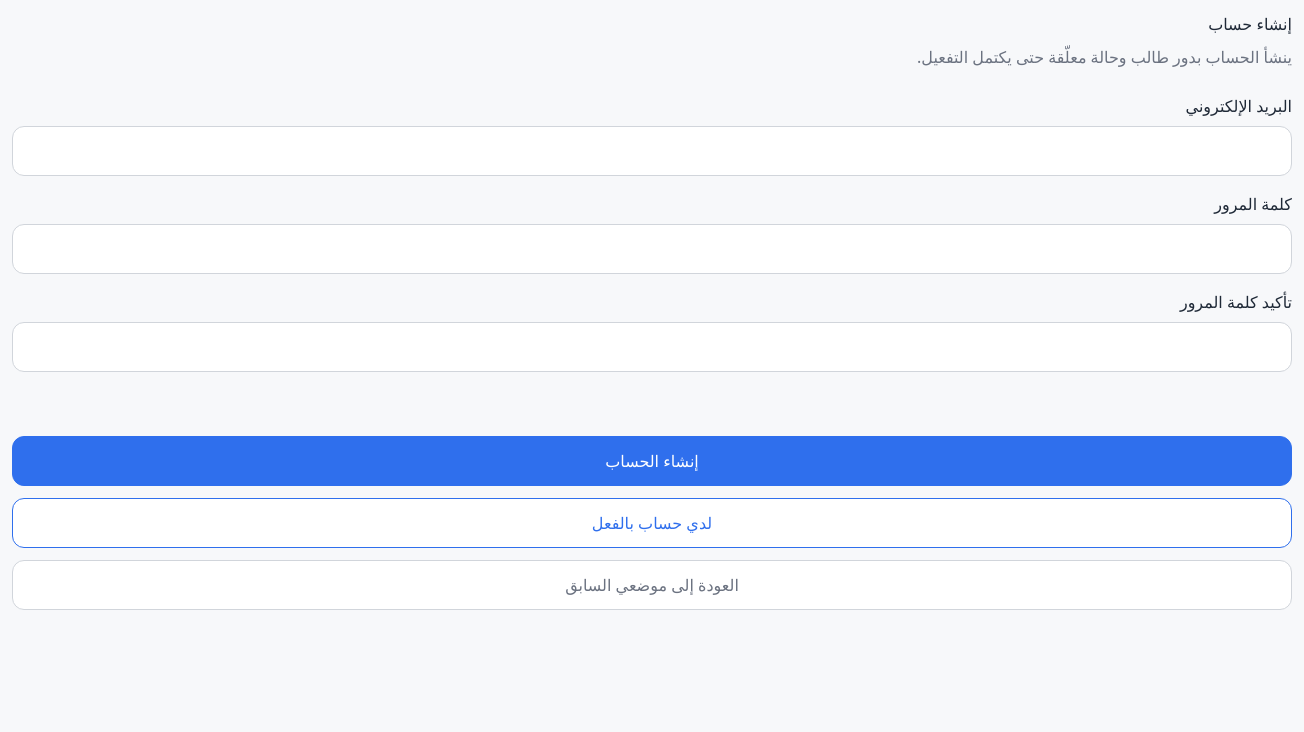
Test: SignUpForm › يعرض PublicAuthError فقط عند فشل التسجيل
Type "new@example.com" into the field labelled "البريد الإلكتروني" at (652, 151), box [12, 126, 1292, 176]
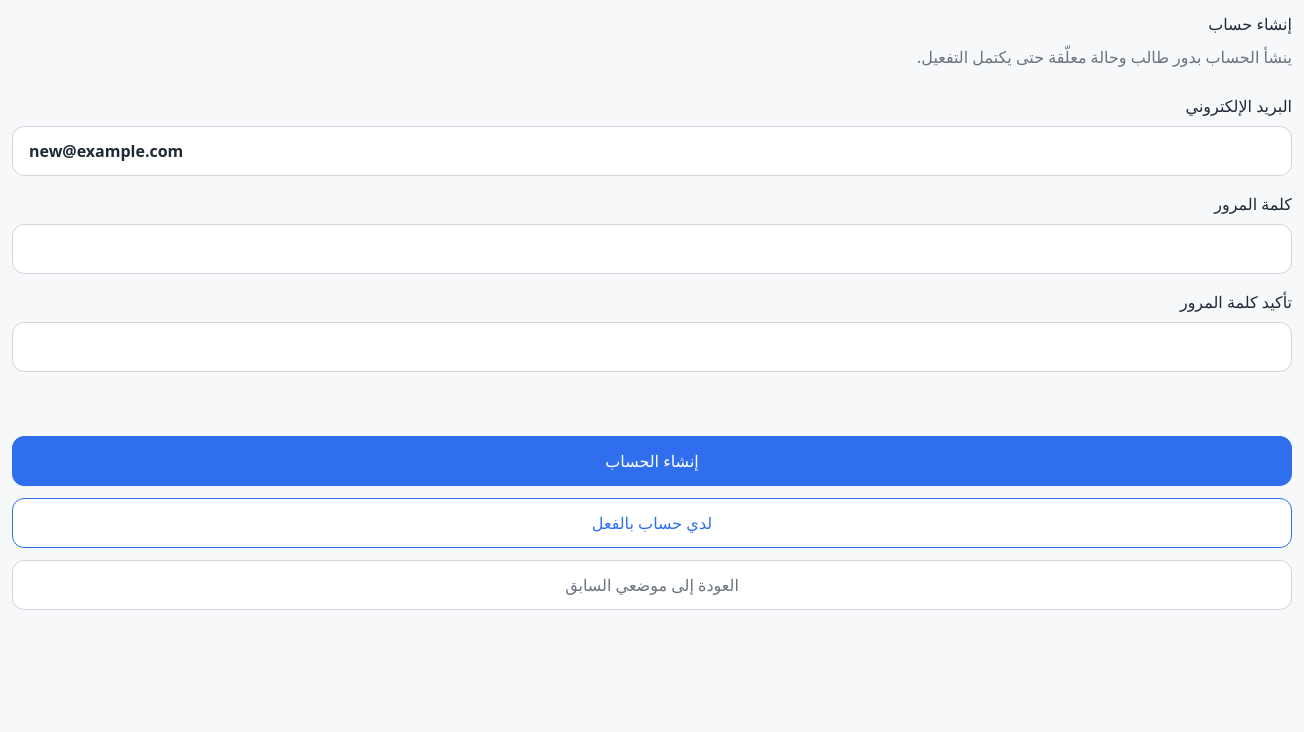
Type "strong-password" into the password field labelled "كلمة المرور" at (652, 249), box [12, 224, 1292, 274]
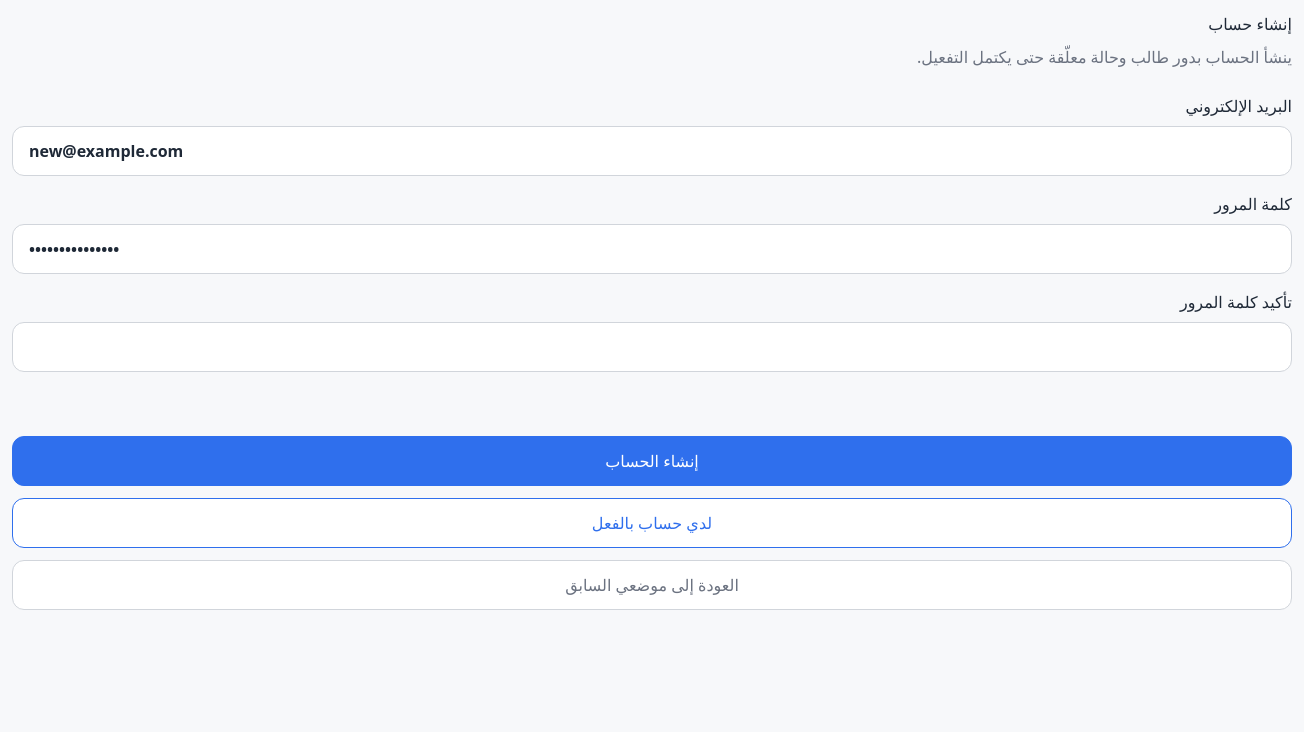
Type "strong-password" into the password field labelled "تأكيد كلمة المرور" at (652, 347), box [12, 322, 1292, 372]
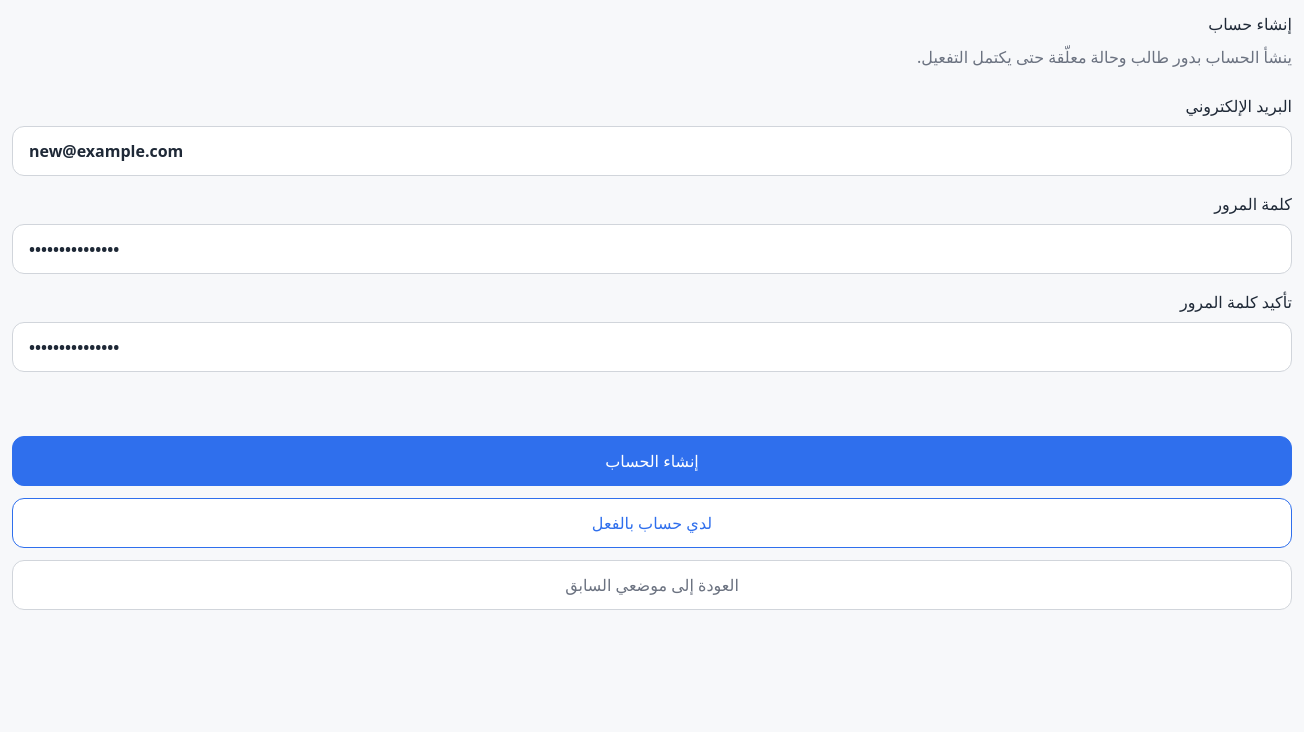
Click the button "إنشاء الحساب" at (652, 461), box [12, 436, 1292, 486]
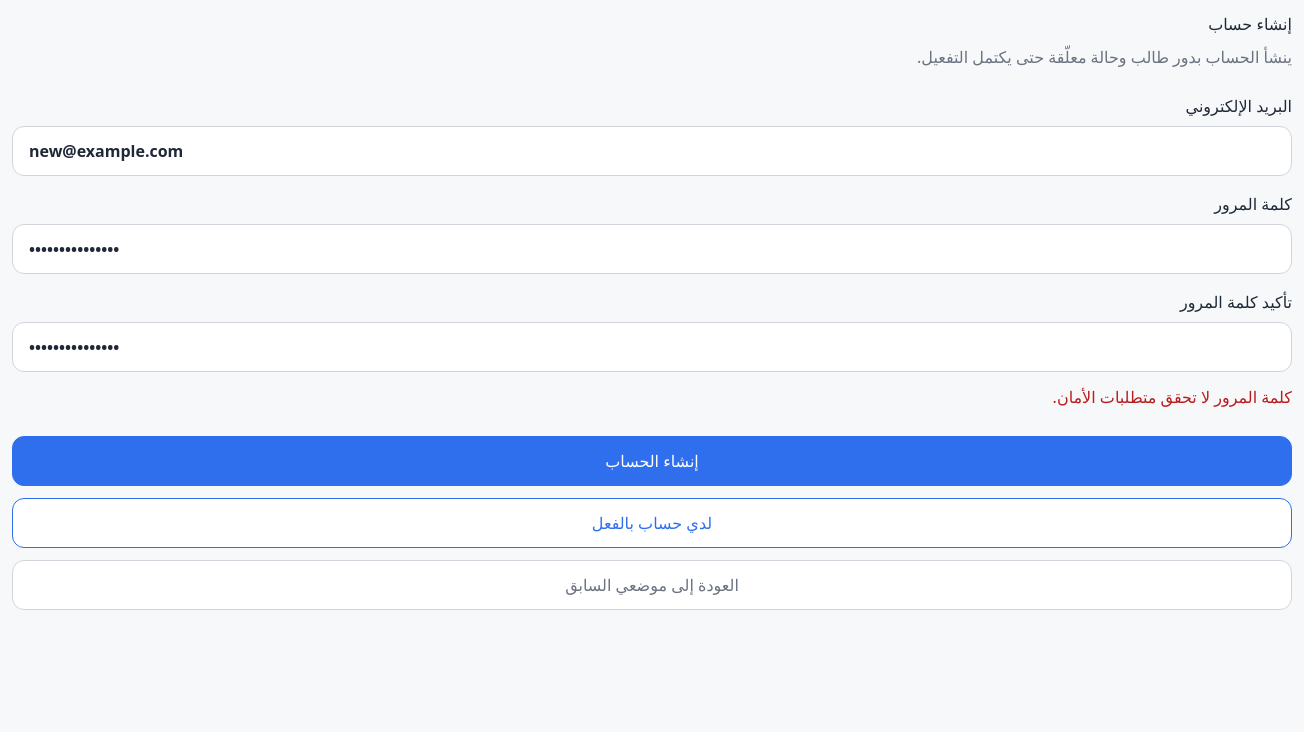
expect the message reads "كلمة المرور لا تحقق متطلبات الأمان.": met, box [1053, 386, 1292, 408]
